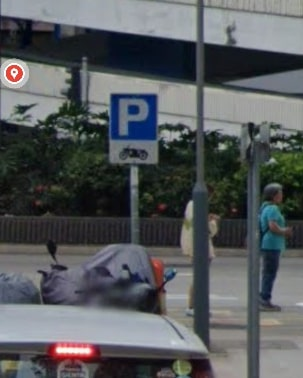Parking: (109, 93, 160, 167)
